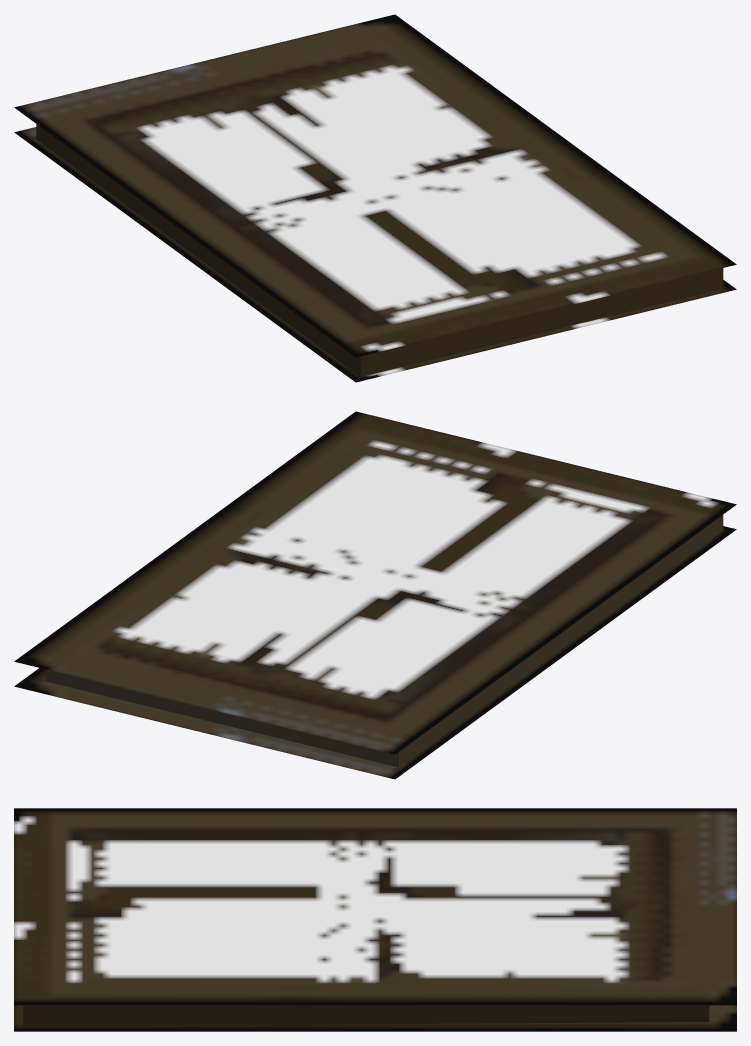
The model's file is pz_native_fixtures_windows_01_63_frame.obj.
3 renders of one model, top to bottom at view 1: azimuth 30°, elevation 25°; view 2: azimuth 150°, elevation 25°; view 3: azimuth 270°, elevation 25°, orthographic. The views are drawn at different scales.
Parts seen in each view (by area): view 1: pz_native_fixtures_windows_01_63_frame; view 2: pz_native_fixtures_windows_01_63_frame; view 3: pz_native_fixtures_windows_01_63_frame.
Part boxes in pixels (x1,y1,x2,y2): pz_native_fixtures_windows_01_63_frame: (14,14,736,382); pz_native_fixtures_windows_01_63_frame: (14,411,736,779); pz_native_fixtures_windows_01_63_frame: (14,808,736,1031).
Bounding box in the file's own units: 0.6406 × 0.04 × 0.9951.
Materials: 1 (1 with a texture image).
